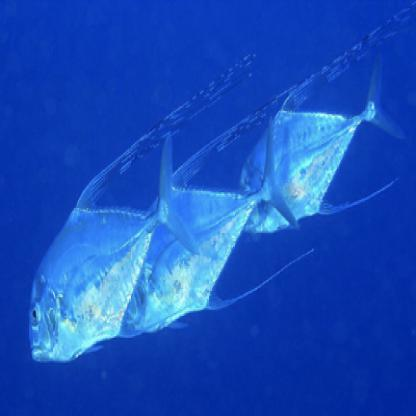Bio: (113, 108, 309, 341), (25, 129, 205, 370), (233, 36, 406, 238)
